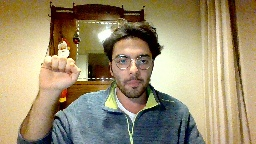Pugno: (32, 52, 82, 91)
